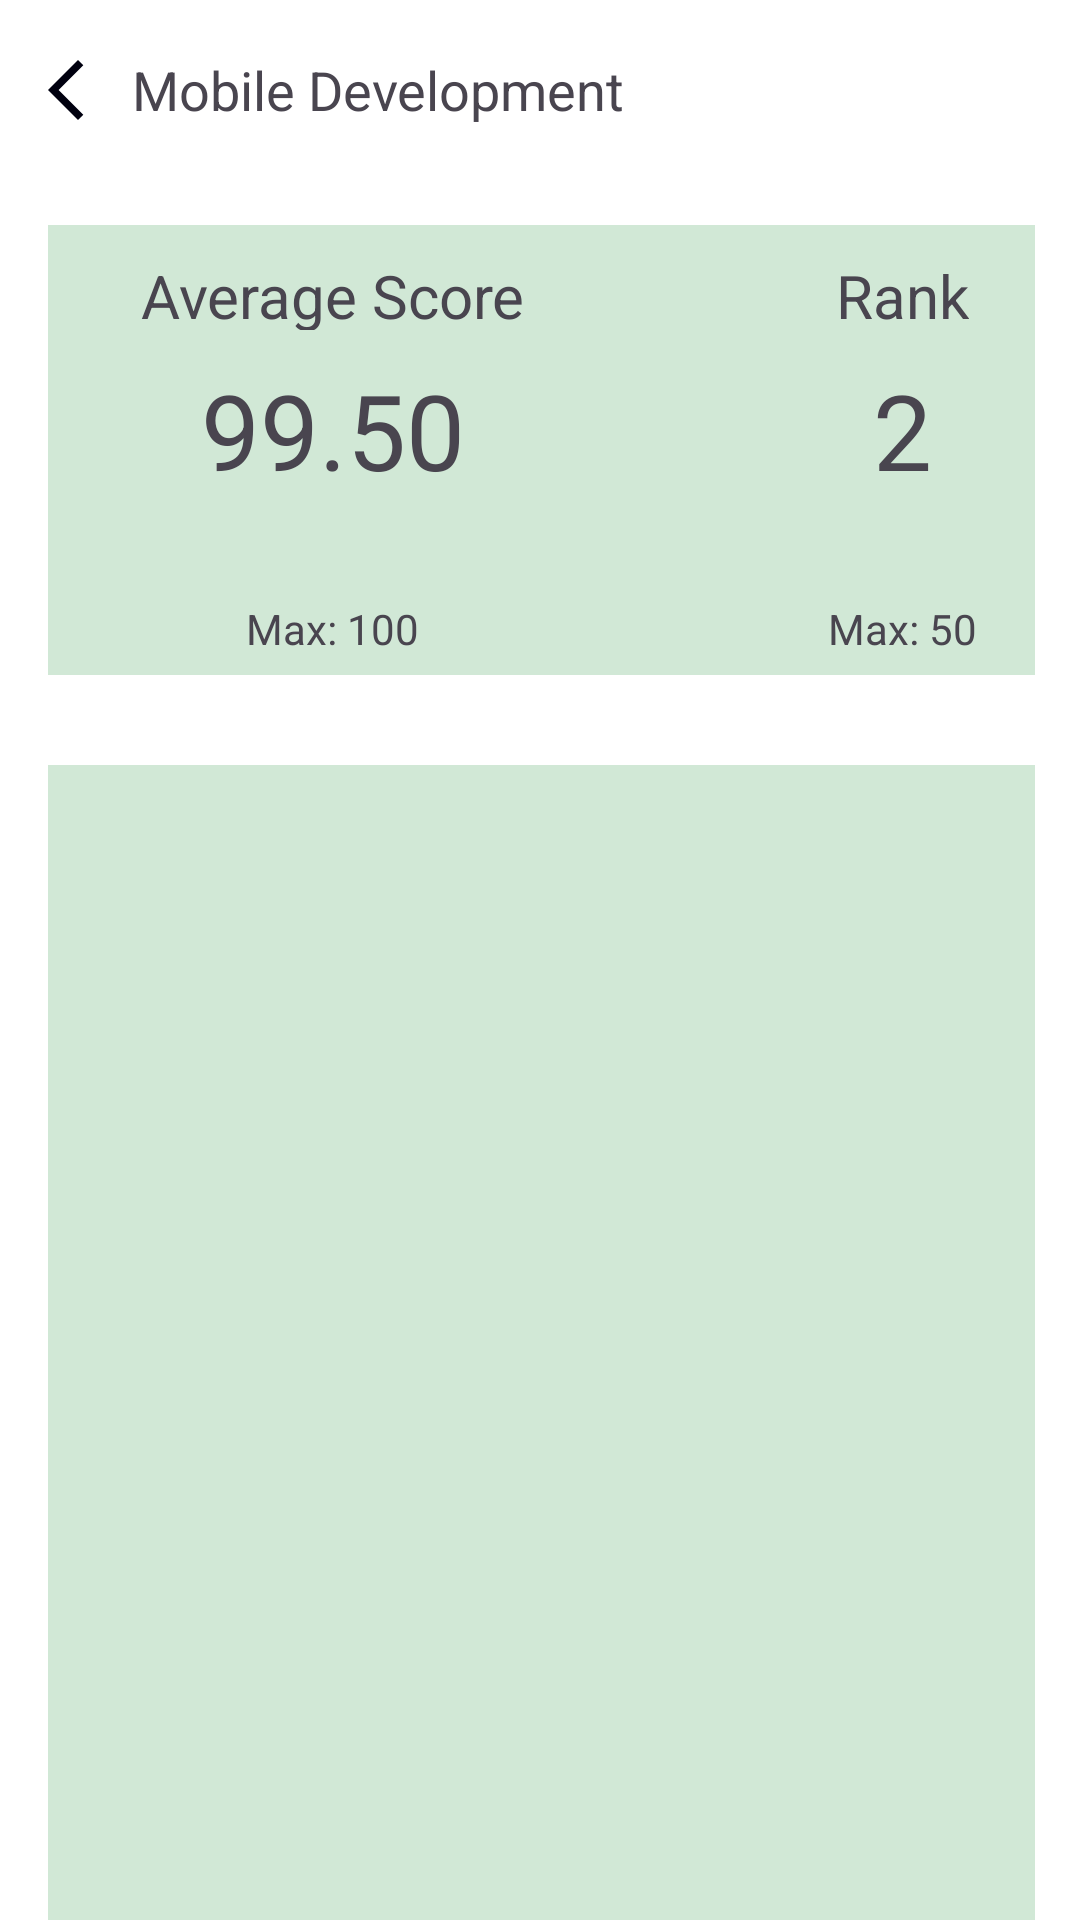

Icon click points for this 1080 × 1920 phone screenshot, format [x,y]:
back: [65,90]
